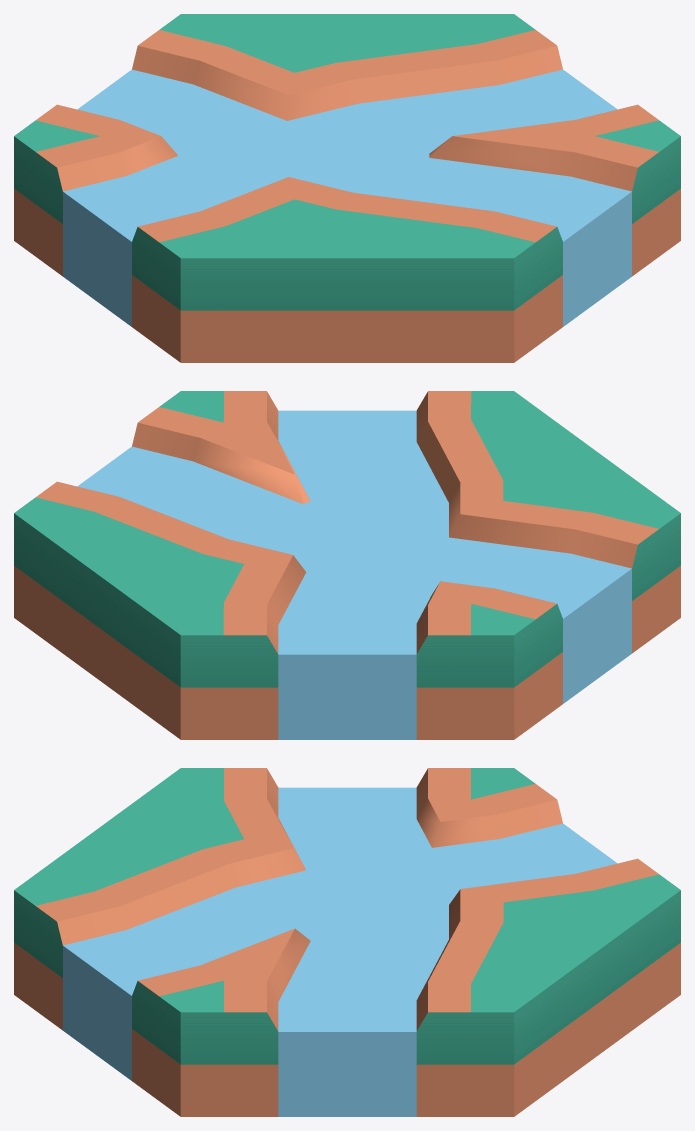
Rendered from river-intersection-e.glb.
The picture shows the model from 3 angles, top to bottom: view 1: azimuth 30°, elevation 25°; view 2: azimuth 150°, elevation 25°; view 3: azimuth 270°, elevation 25°; orthographic projection.
Visible parts, largest first — view 1: river-intersectionE; view 2: river-intersectionE; view 3: river-intersectionE.
Part boxes in pixels (x1,y1,x2,y2): river-intersectionE: (14,14,680,362); river-intersectionE: (14,391,680,739); river-intersectionE: (14,768,680,1116).
Bounding box in the file's own units: 1 × 0.2 × 1.15.
1 material, 1 textured.
